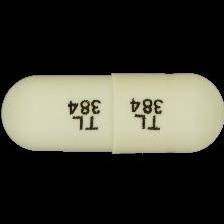59746-384: (0, 0, 224, 224)
